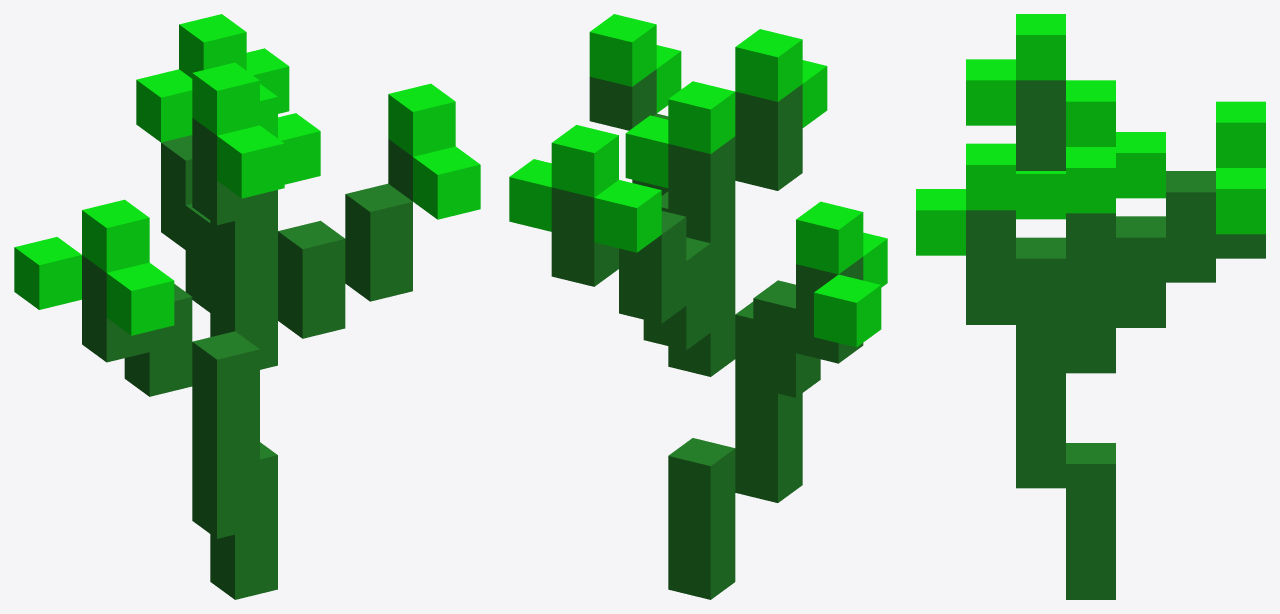
File: Flower05-0.obj
3 renders of one model, left to right at view 1: azimuth 30°, elevation 25°; view 2: azimuth 150°, elevation 25°; view 3: azimuth 270°, elevation 25°, orthographic.
Bounding box in the file's own units: 0.8 × 1.2 × 0.7.
1 material, 1 textured.
